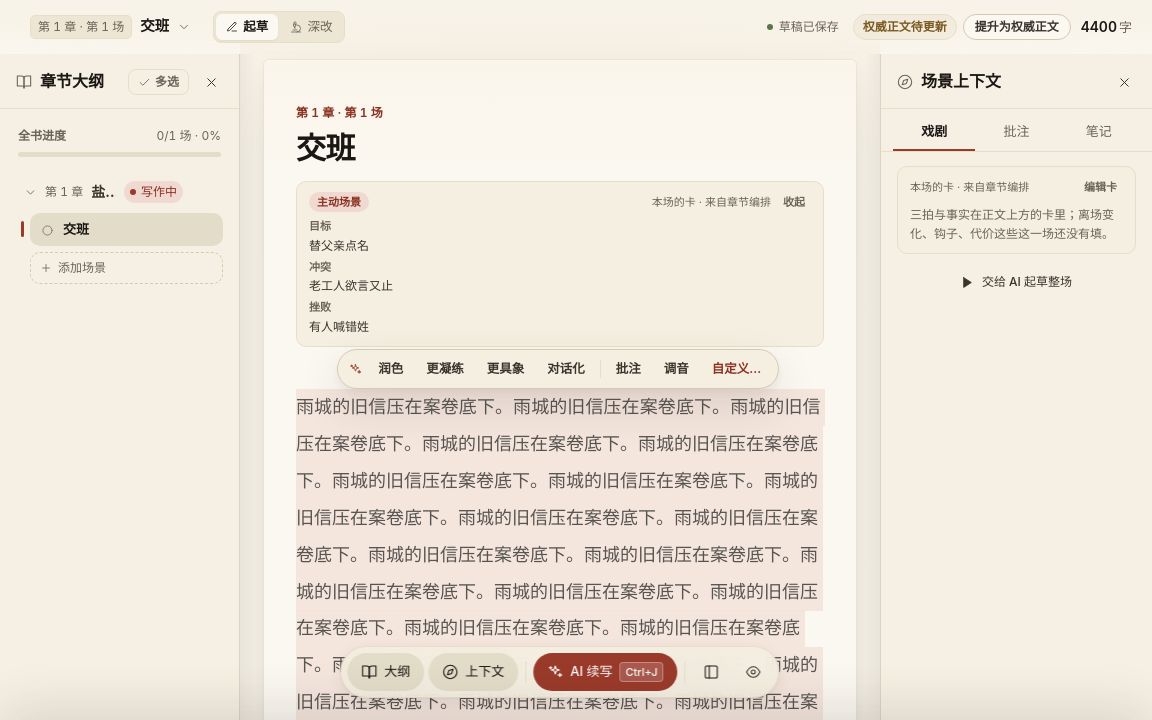
Test case: 写作台 · 选区改写的字数上限（#20a） › 选了 2,500 字：不发改写请求、不截短，弹层说选区太长、请分段改写，没有「重试」
What coordinates should you click on to do the following:
click the button "润色"
I would click on:
 (391, 369)
Its box is [367,354,414,384].
(page scrolled)
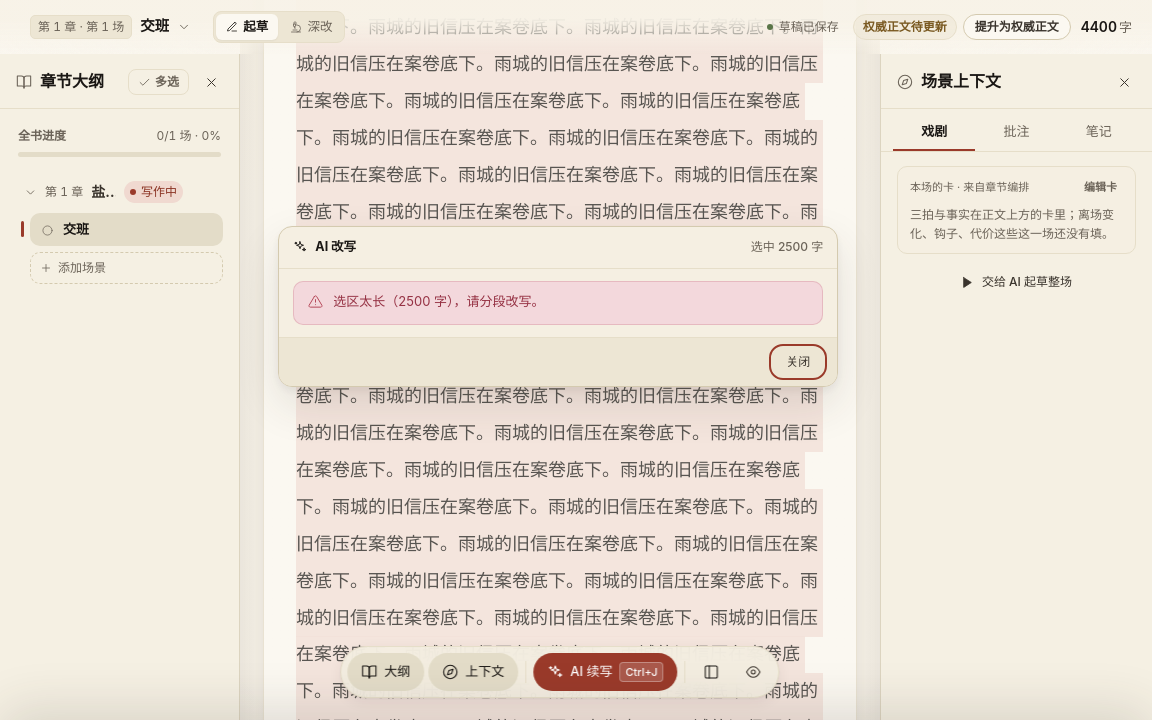
Now the dialog with class "wr-irw-pop" shows "选区太长（2500 字），请分段改写", box [333,293,544,309]
